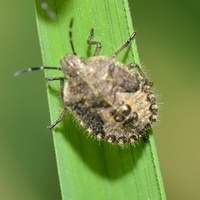insect: (14, 18, 157, 143)
